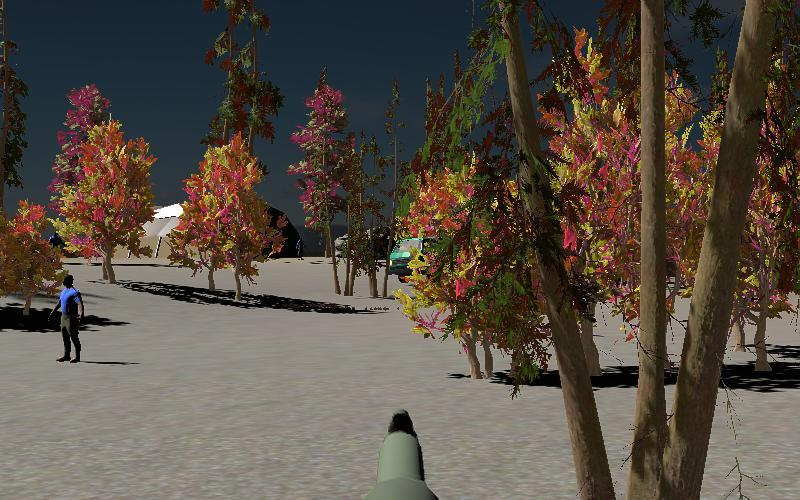Human: (48, 273, 84, 364)
